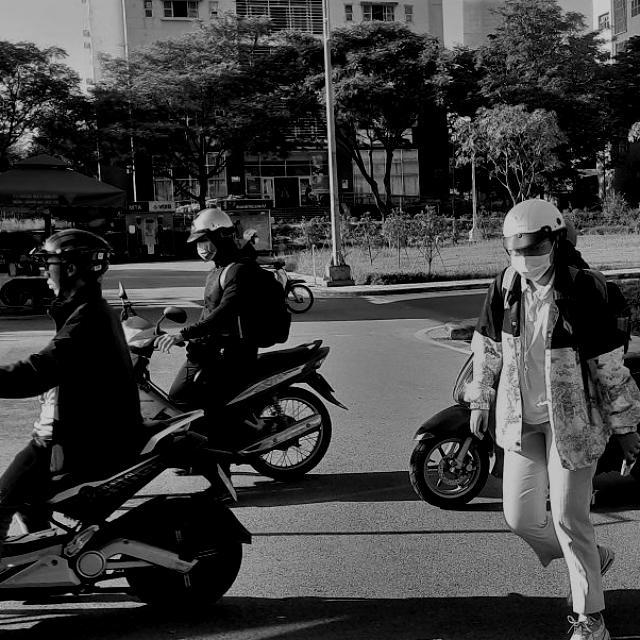Helmet: (500, 196, 568, 282), (36, 224, 111, 295), (183, 203, 238, 263)
